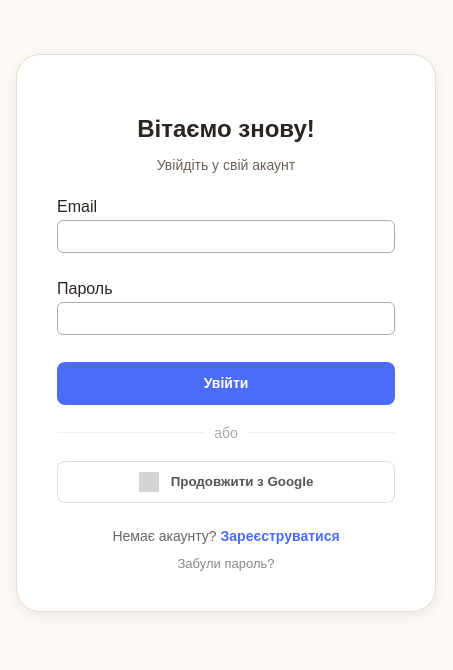
LoginPage › показує помилку якщо login кидає error.message
The width and height of the screenshot is (453, 670).
Type "test@test.com" into the field labelled "Email" at (226, 236), box left=57, top=220, right=395, bottom=253
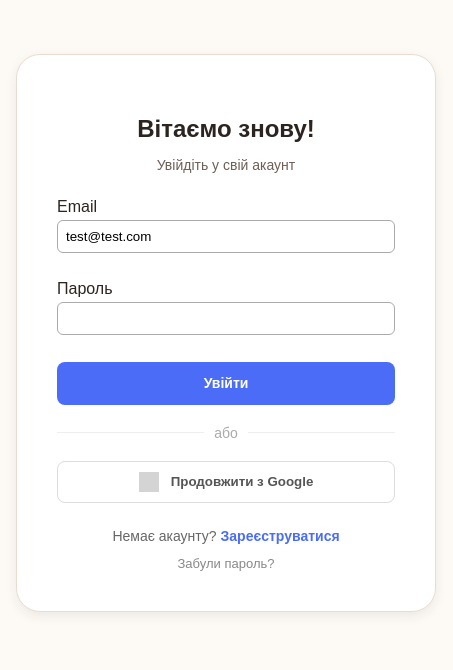
Type "password123" into the password field labelled "Пароль" at (226, 318), box left=57, top=302, right=395, bottom=335
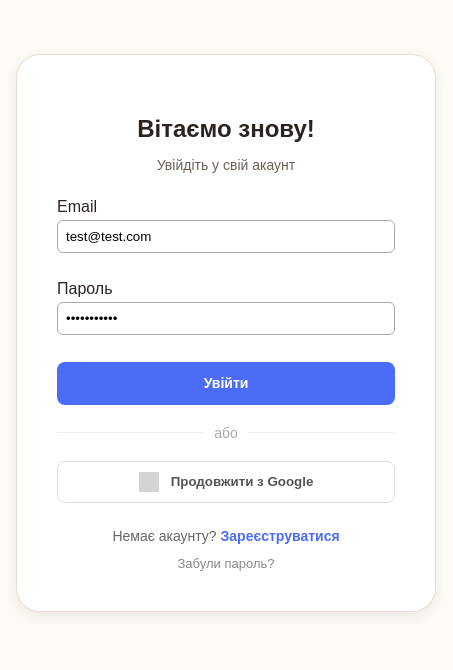
Click the button "Увійти" at (226, 384), box left=57, top=362, right=395, bottom=405
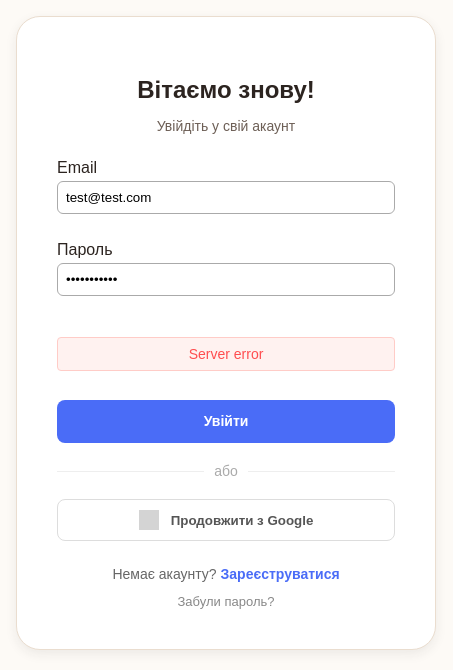
Result: the text "Server error" is shown at left=57, top=338, right=395, bottom=372
